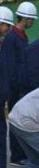hard-hat: (0, 36, 14, 59)
ppe-suit: (0, 0, 1, 1)
